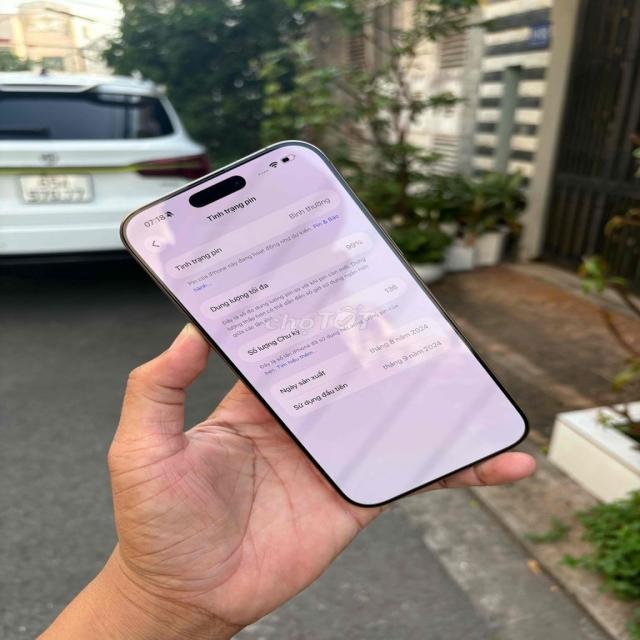gen_16: (110, 138, 538, 508)
